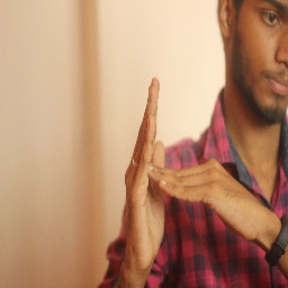Z: (113, 76, 258, 266)
